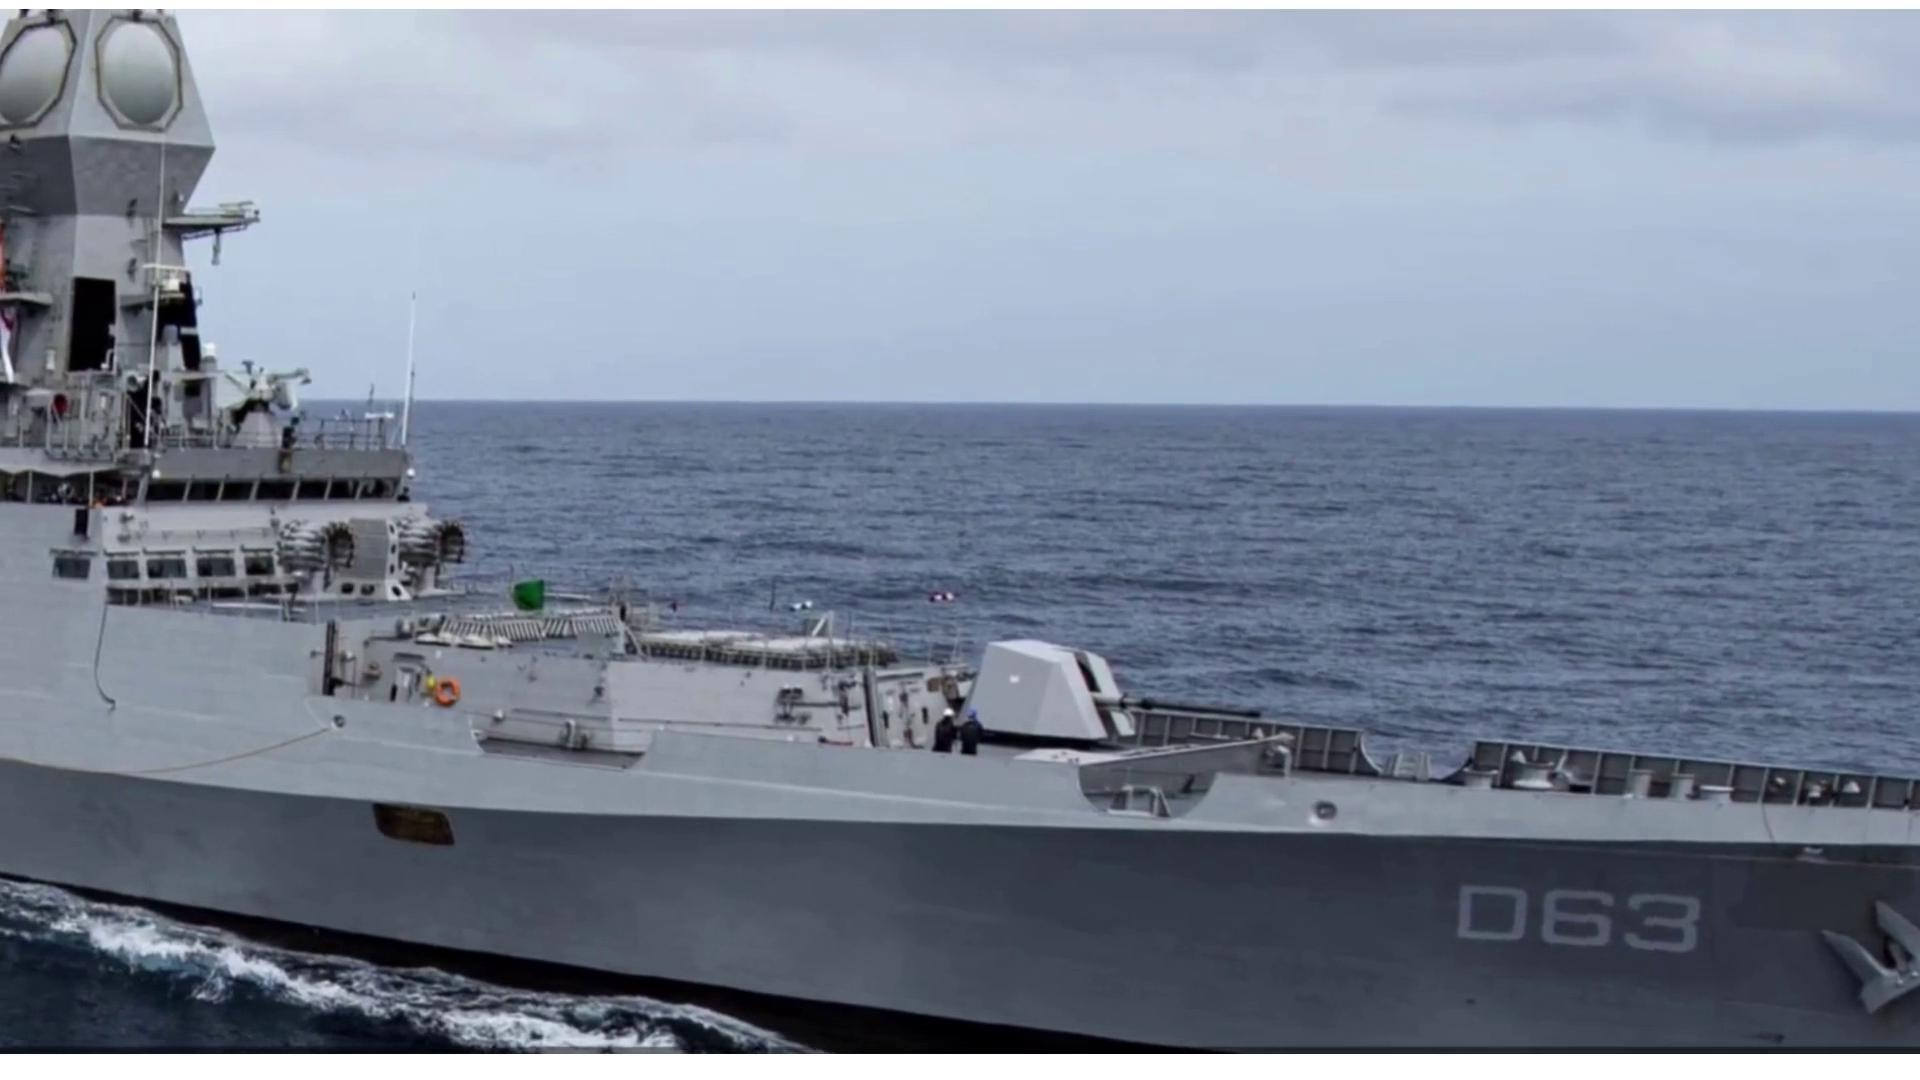OCR: (1436, 860, 1719, 974)
